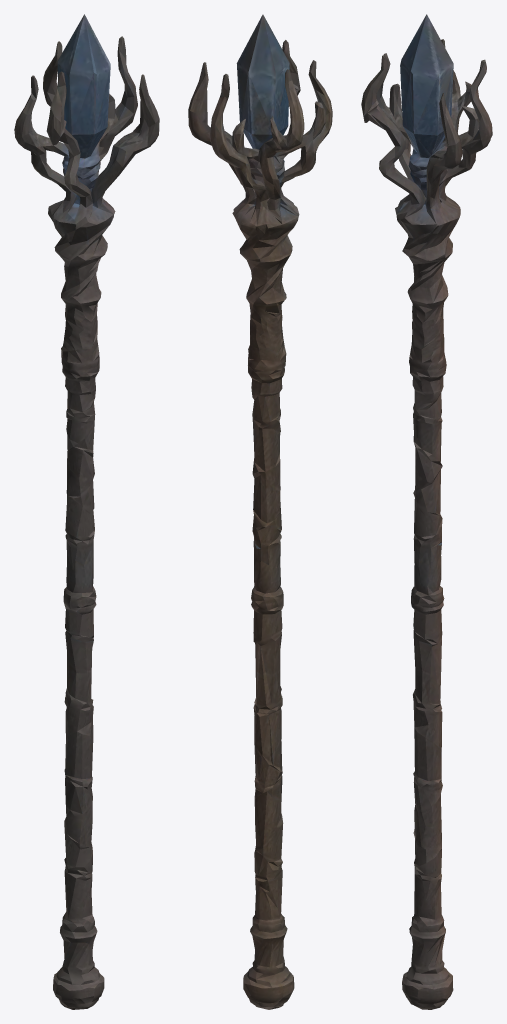
The model's file is staff-BET94dyl.glb.
The picture shows the model from 3 angles, left to right: view 1: azimuth 30°, elevation 25°; view 2: azimuth 210°, elevation 25°; view 3: azimuth 330°, elevation 25°; orthographic projection.
Parts seen in each view (by area): view 1: staff; view 2: staff; view 3: staff.
Boxes of the visible parts, left/top/right/bottom form: staff: left=14, top=14, right=159, bottom=1009; staff: left=188, top=14, right=332, bottom=1009; staff: left=361, top=14, right=492, bottom=1009.
Bounding box in the file's own units: 0.1273 × 1 × 0.1058.
1 material, 1 textured.
